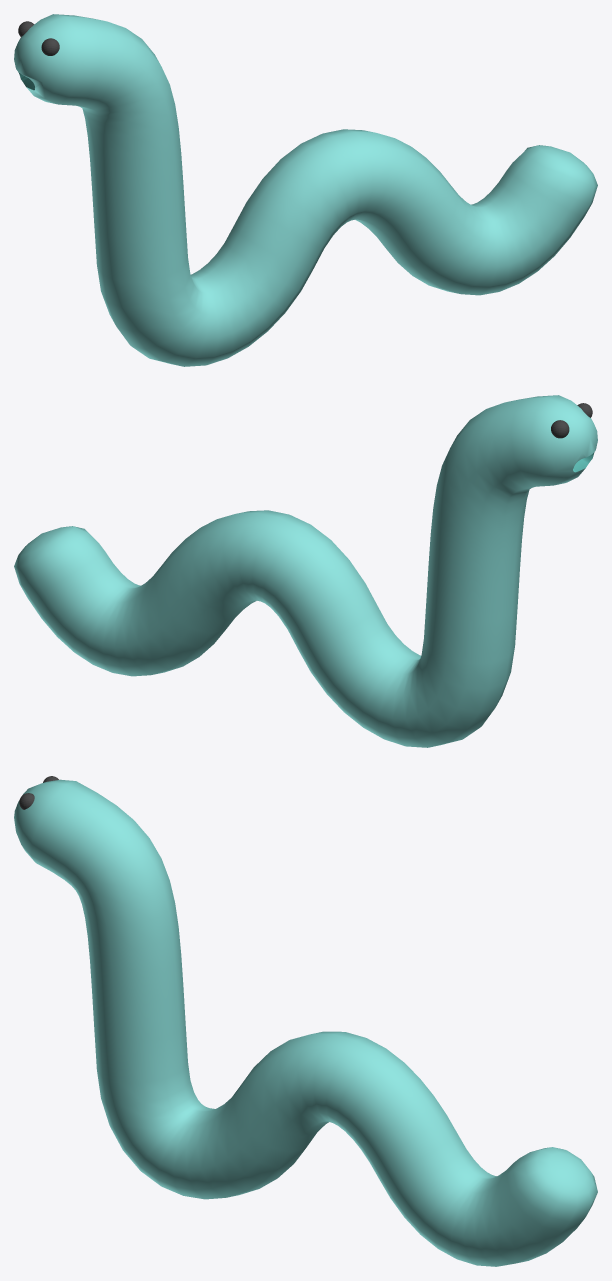
The model's file is gusano.fbx.
3 renders of one model, top to bottom at view 1: azimuth 30°, elevation 25°; view 2: azimuth 150°, elevation 25°; view 3: azimuth 330°, elevation 25°, orthographic.
Visible parts, largest first — view 1: Gusano; view 2: Gusano; view 3: Gusano.
Part boxes in pixels (x1,y1,x2,y2): Gusano: (14,14,597,366); Gusano: (14,395,597,747); Gusano: (14,776,597,1266).
Size of the model in its own units: 1442 by 909 by 200.
Materials: 1 (1 with a texture image).
